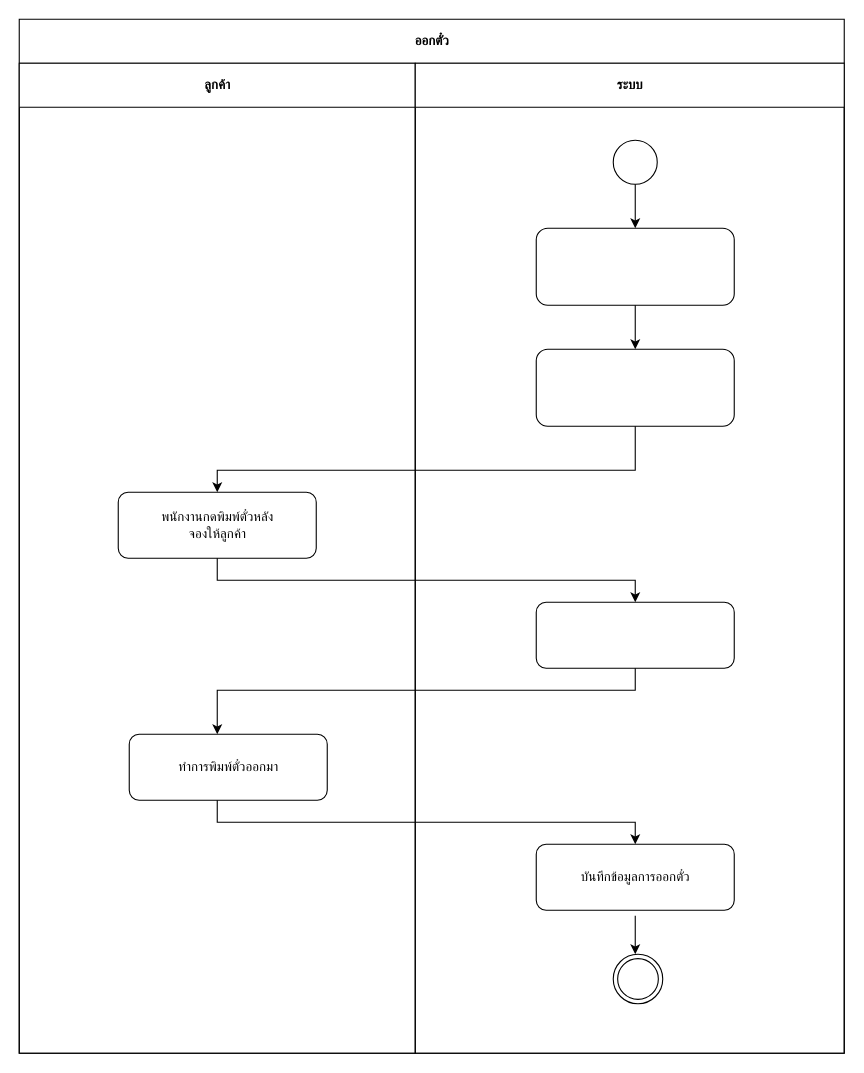
Some shapes in this 864 by 1073 pixel diagram are drawn without their labels. The centre of each missing label's shape, as x and y in pixels:
ดึงข้อมูลรายการจองที่ลูกค้าจองไว้: pixel 634 266
สร้างqr codeให้ตั๋วตามประเภทของตั๋ว: pixel 634 387
แสดงข้อมูลตั๋ว รอบเครื่องเล่น qr code: pixel 634 634
